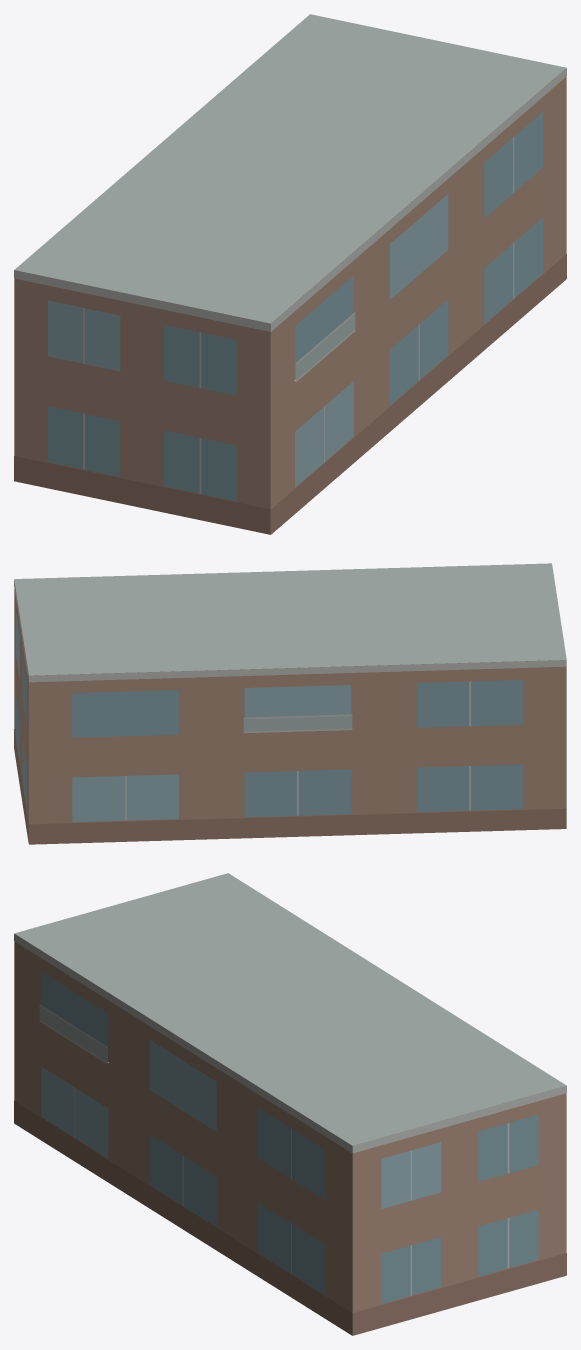
The model's file is survey-upis-32975717.glb.
The picture shows the model from 3 angles, top to bottom: view 1: azimuth 30°, elevation 25°; view 2: azimuth 150°, elevation 25°; view 3: azimuth 270°, elevation 25°; orthographic projection. The views are drawn at different scales.
Parts seen in each view (by area): view 1: survey-upis-32975717.tmp; view 2: survey-upis-32975717.tmp; view 3: survey-upis-32975717.tmp.
Part boxes in pixels (x1=…): survey-upis-32975717.tmp: x1=14, y1=14, x2=566, y2=534; survey-upis-32975717.tmp: x1=14, y1=563, x2=566, y2=844; survey-upis-32975717.tmp: x1=14, y1=873, x2=566, y2=1335.
Bounding box in the file's own units: 18.8 × 6.1 × 16.1.
